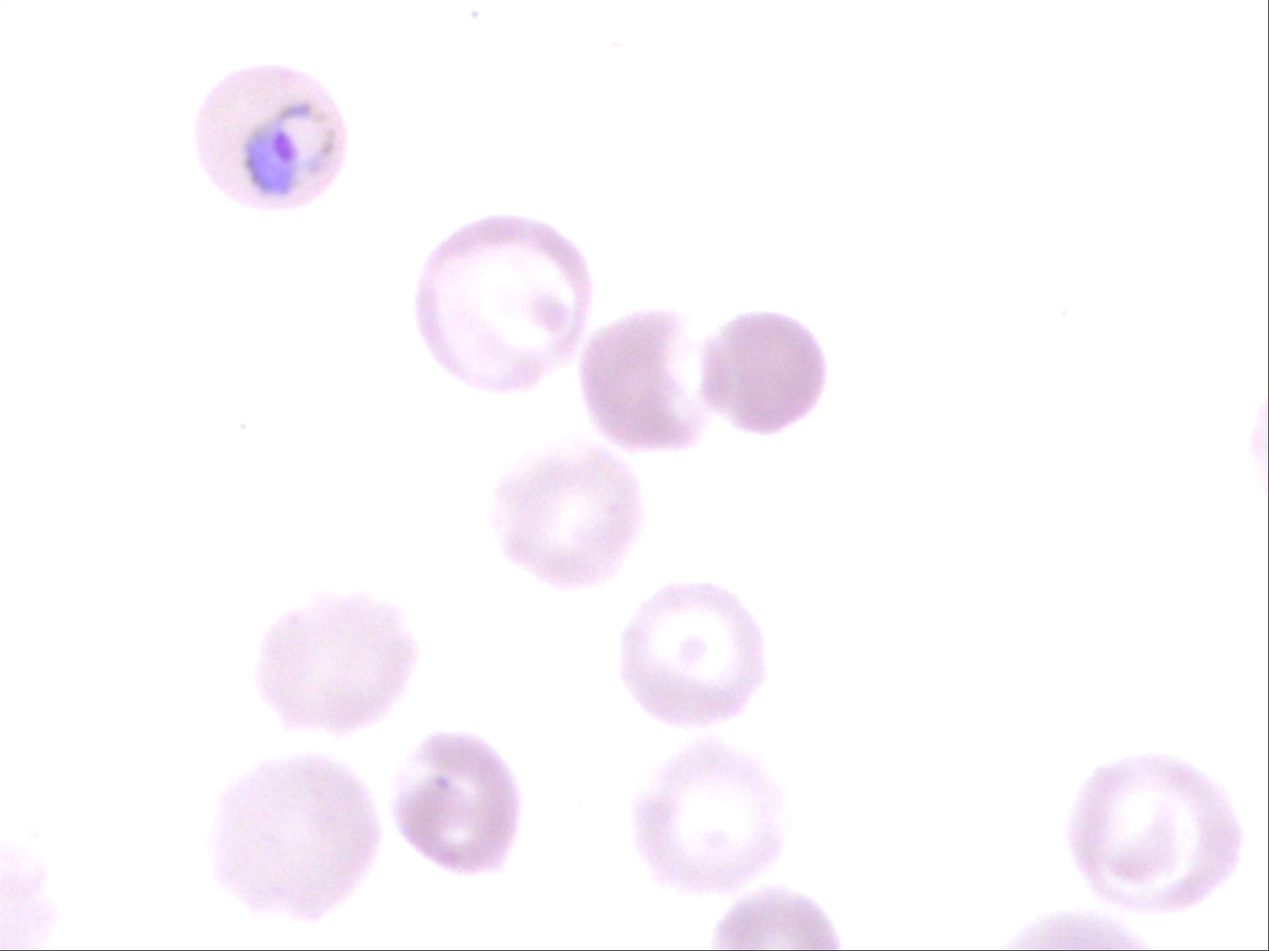Infected: (193, 65, 348, 213)
Uninfected: (418, 215, 592, 391), (208, 752, 383, 919), (1071, 757, 1241, 909), (484, 443, 645, 591), (251, 592, 414, 735), (633, 739, 784, 891), (621, 582, 764, 727), (580, 309, 719, 448), (392, 732, 517, 874), (701, 309, 825, 435)
